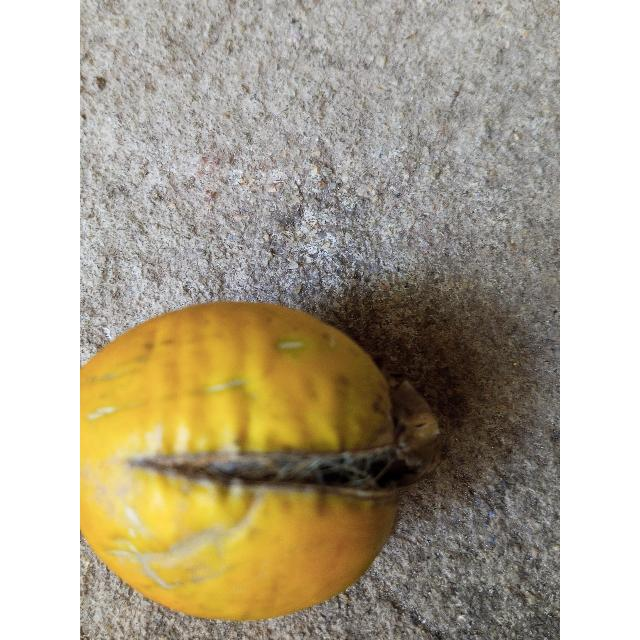damaged: (80, 302, 440, 620)
